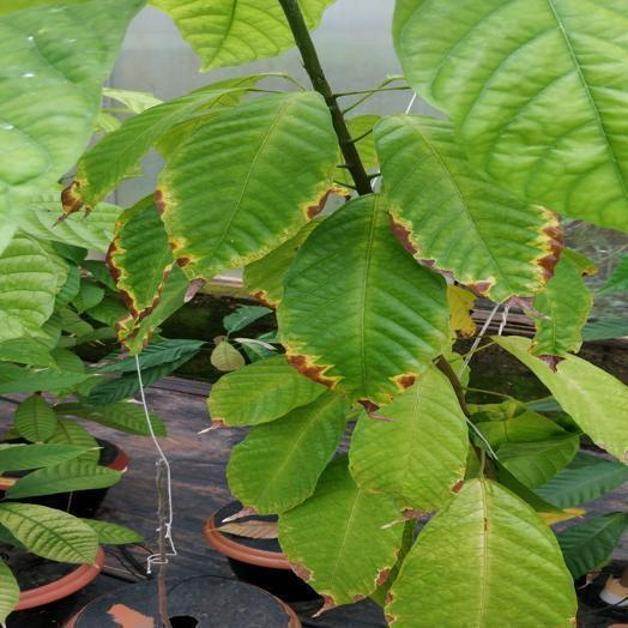Potassium: (277, 195, 448, 405), (375, 116, 561, 301), (155, 92, 338, 279), (279, 456, 402, 611), (351, 367, 469, 525), (107, 195, 187, 349)
